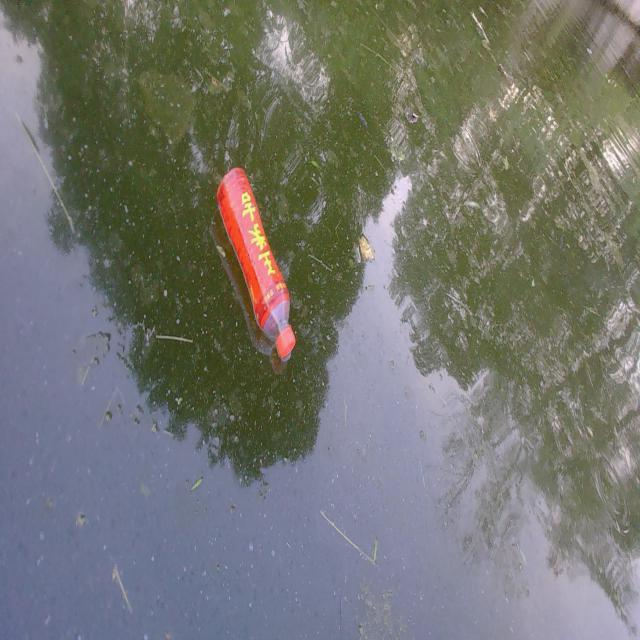bottle: (196, 135, 310, 393)
